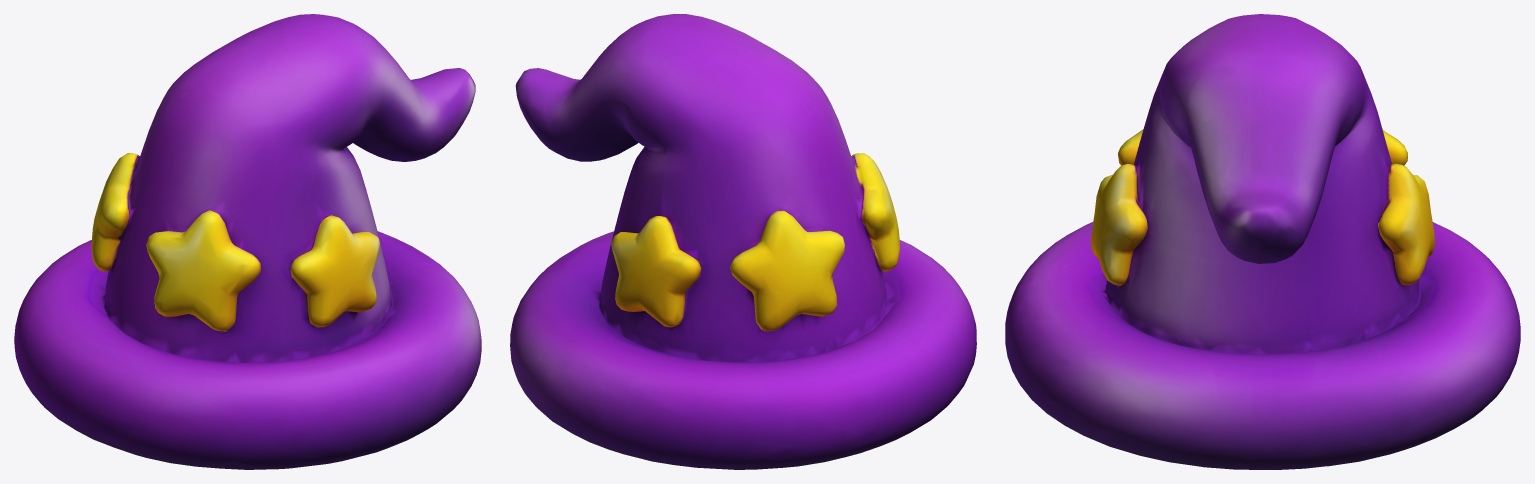
File: hat-wizard.glb
3 renders of one model, left to right at view 1: azimuth 30°, elevation 25°; view 2: azimuth 150°, elevation 25°; view 3: azimuth 270°, elevation 25°, orthographic. The views are drawn at different scales.
Visible parts, largest first — view 1: tripo_node_533a972b-99da-4f8f-8cc7-18a6ce4b9f89; view 2: tripo_node_533a972b-99da-4f8f-8cc7-18a6ce4b9f89; view 3: tripo_node_533a972b-99da-4f8f-8cc7-18a6ce4b9f89.
Boxes of the visible parts, x1,y1,x2,y2 form: tripo_node_533a972b-99da-4f8f-8cc7-18a6ce4b9f89: [14, 14, 481, 469]; tripo_node_533a972b-99da-4f8f-8cc7-18a6ce4b9f89: [510, 14, 976, 469]; tripo_node_533a972b-99da-4f8f-8cc7-18a6ce4b9f89: [1005, 14, 1520, 469].
Size of the model in its own units: 1 by 0.7802 by 0.967.
1 material, 1 textured.
